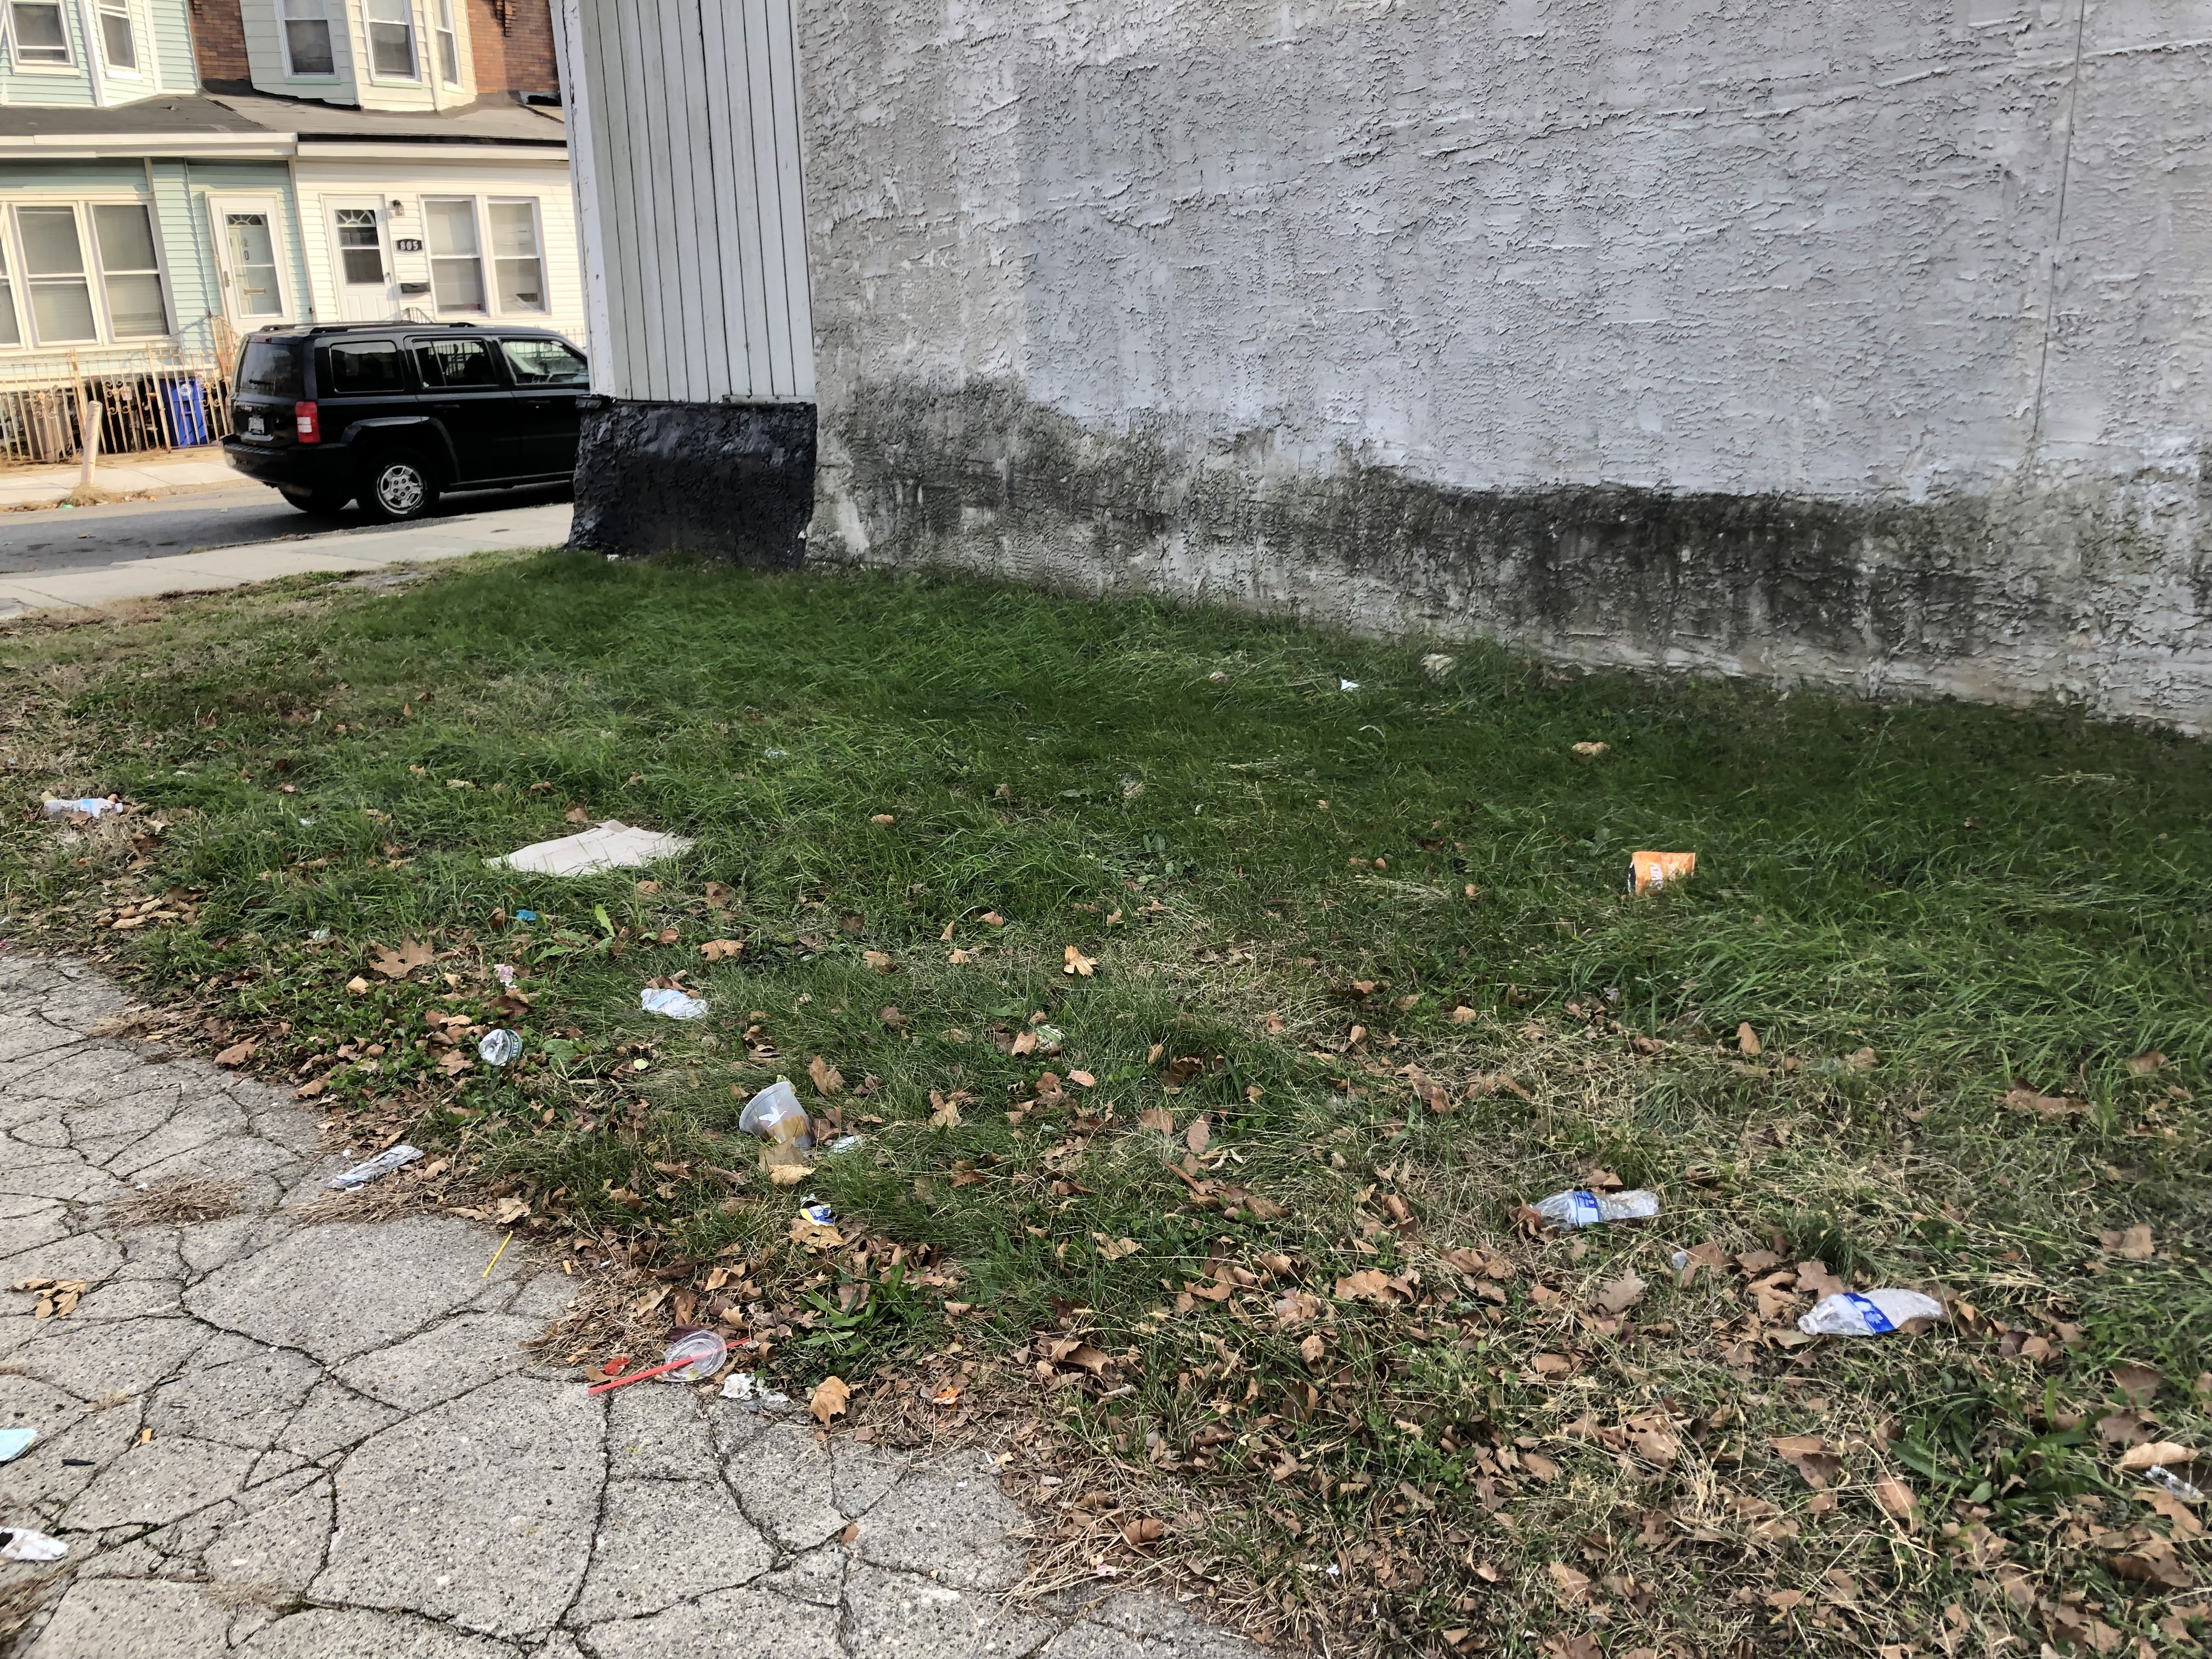good_lawn: (343, 647, 2085, 1188), (747, 904, 2186, 1446)
trash: (493, 796, 716, 897), (1531, 1164, 1696, 1258), (1585, 819, 1754, 910), (1806, 1269, 1947, 1370), (594, 1304, 752, 1380), (38, 765, 143, 852), (712, 1066, 831, 1141), (611, 981, 730, 1039)
